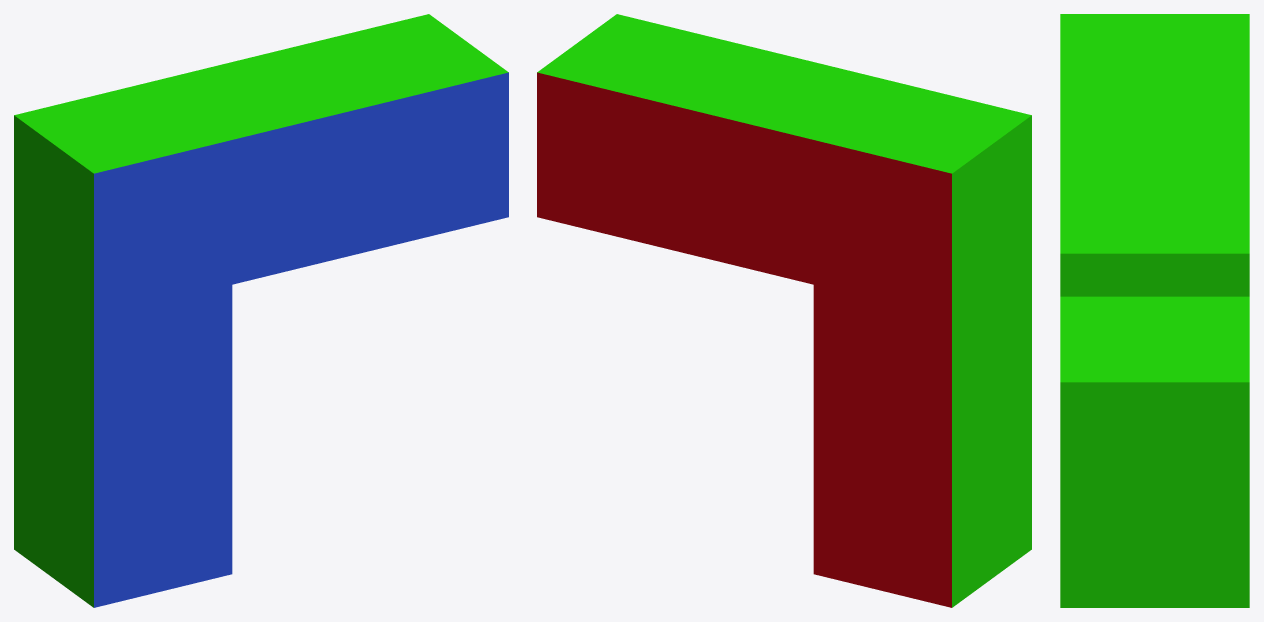
The model's file is Corridor_3U_Left.fbx.
3 renders of one model, left to right at view 1: azimuth 30°, elevation 25°; view 2: azimuth 150°, elevation 25°; view 3: azimuth 270°, elevation 25°, orthographic. The views are drawn at different scales.
Visible parts, largest first — view 1: Corridor 3U Left; view 2: Corridor 3U Left; view 3: Corridor 3U Left.
Boxes of the visible parts, x1=… form: Corridor 3U Left: x1=14, y1=14, x2=508, y2=607; Corridor 3U Left: x1=537, y1=14, x2=1031, y2=607; Corridor 3U Left: x1=1060, y1=14, x2=1249, y2=607.
Bounding box in the file's own units: 2400 × 2400 × 800.
